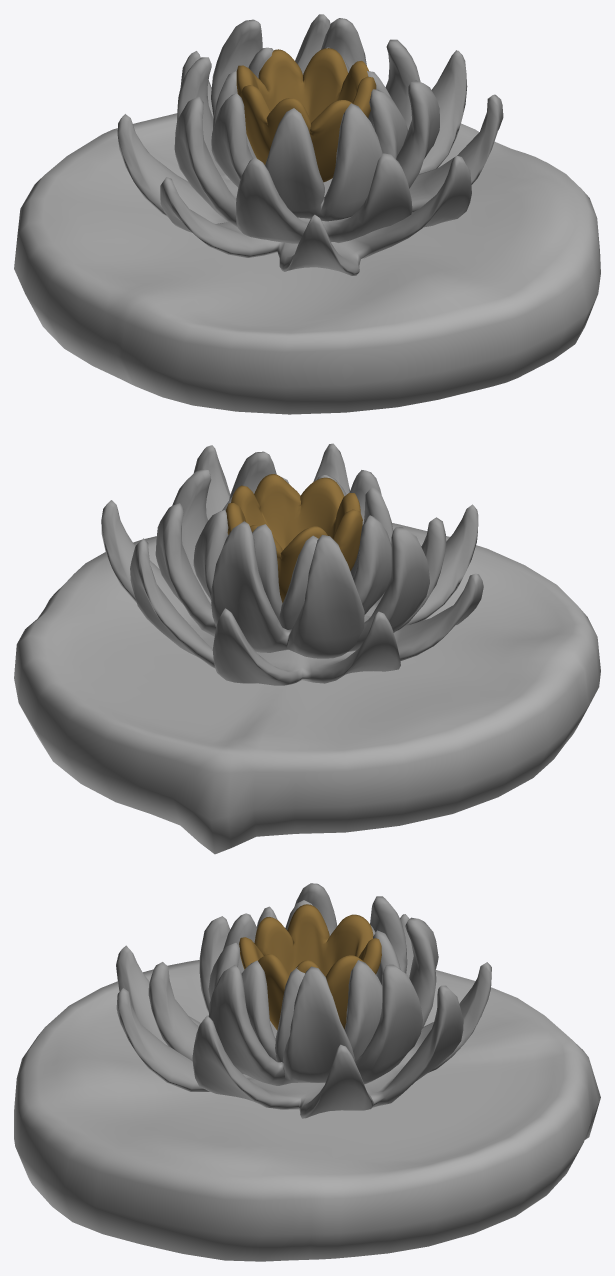
Rendered from Flower_Lilypad_01.fbx.
3 renders of one model, top to bottom at view 1: azimuth 30°, elevation 25°; view 2: azimuth 150°, elevation 25°; view 3: azimuth 270°, elevation 25°, orthographic.
Visible parts, largest first — view 1: Flower_Lilypad_01; view 2: Flower_Lilypad_01; view 3: Flower_Lilypad_01.
Part boxes in pixels (bbox=[...]): Flower_Lilypad_01: bbox=[14, 14, 600, 414]; Flower_Lilypad_01: bbox=[14, 443, 600, 854]; Flower_Lilypad_01: bbox=[14, 883, 600, 1261].
Bounding box in the file's own units: 23.25 × 11.32 × 23.85.
